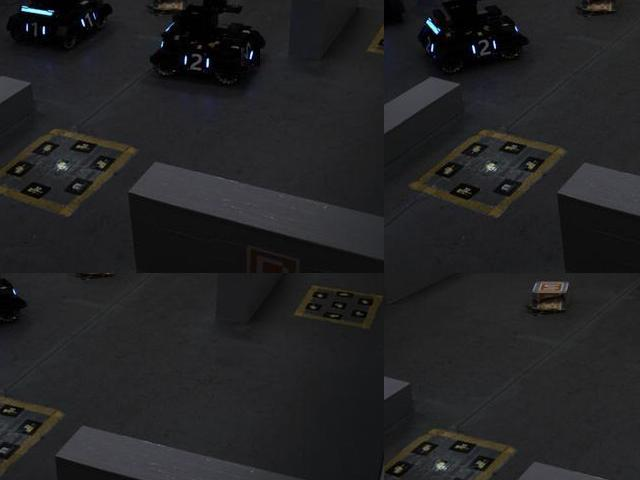armor: (178, 48, 214, 78), (466, 36, 501, 60), (73, 7, 100, 33), (22, 16, 47, 42), (241, 38, 261, 68)
